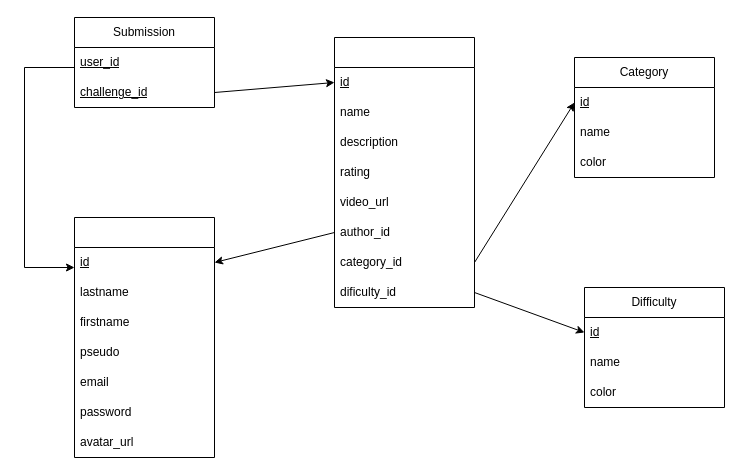
Image size: 742x475. Some labels were removed from this diagram. The shapes that lost their labels are listed below. From the top down, each one's box as (x1, y1, x2, y2) in pixels, then its label:
(334, 36, 474, 308): Challenge
(74, 216, 214, 458): User
